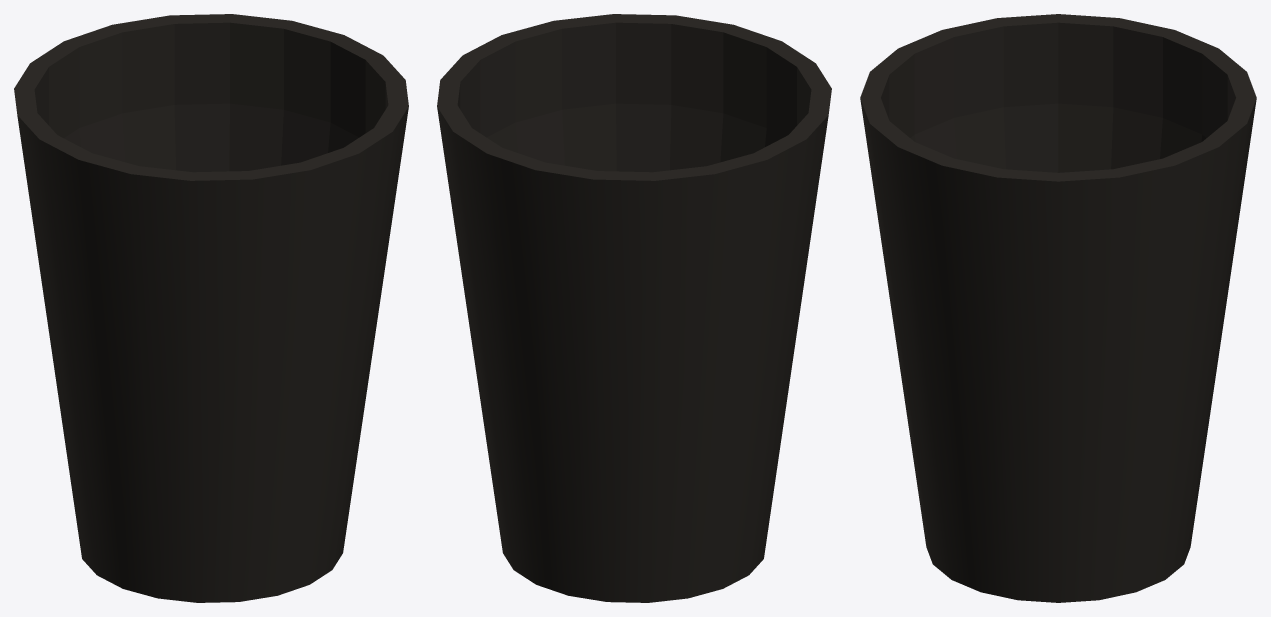
File: Prullenbakken model 2.fbx
3 renders of one model, left to right at view 1: azimuth 30°, elevation 25°; view 2: azimuth 150°, elevation 25°; view 3: azimuth 270°, elevation 25°, orthographic.
Visible parts, largest first — view 1: pCylinder1; view 2: pCylinder1; view 3: pCylinder1.
Boxes of the visible parts, box(x1,y1,x2,y2) form: pCylinder1: box(14, 14, 408, 602); pCylinder1: box(437, 14, 831, 602); pCylinder1: box(860, 14, 1256, 602).
Size of the model in its own units: 40 by 50 by 40.
1 material, 1 textured.
